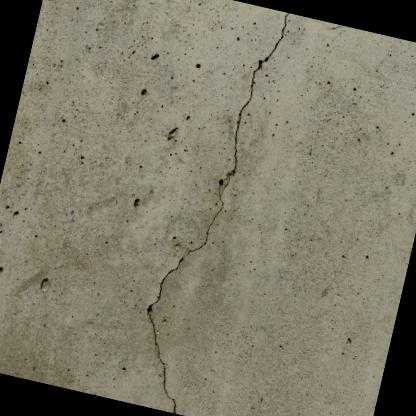crack: (145, 12, 291, 414)
